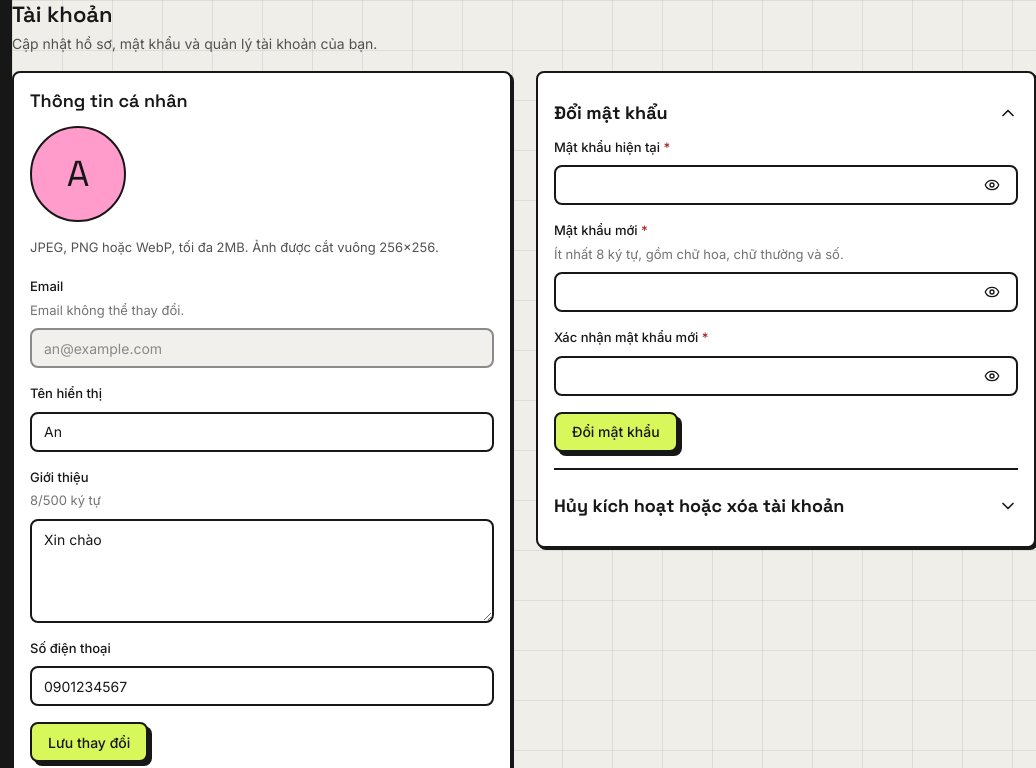
Test: EditProfileTab form › shows the backend message when saving fails
The image size is (1036, 768).
Click the button "Lưu thay đổi". click: [89, 742]
box: [30,722,148,762]
(page scrolled)
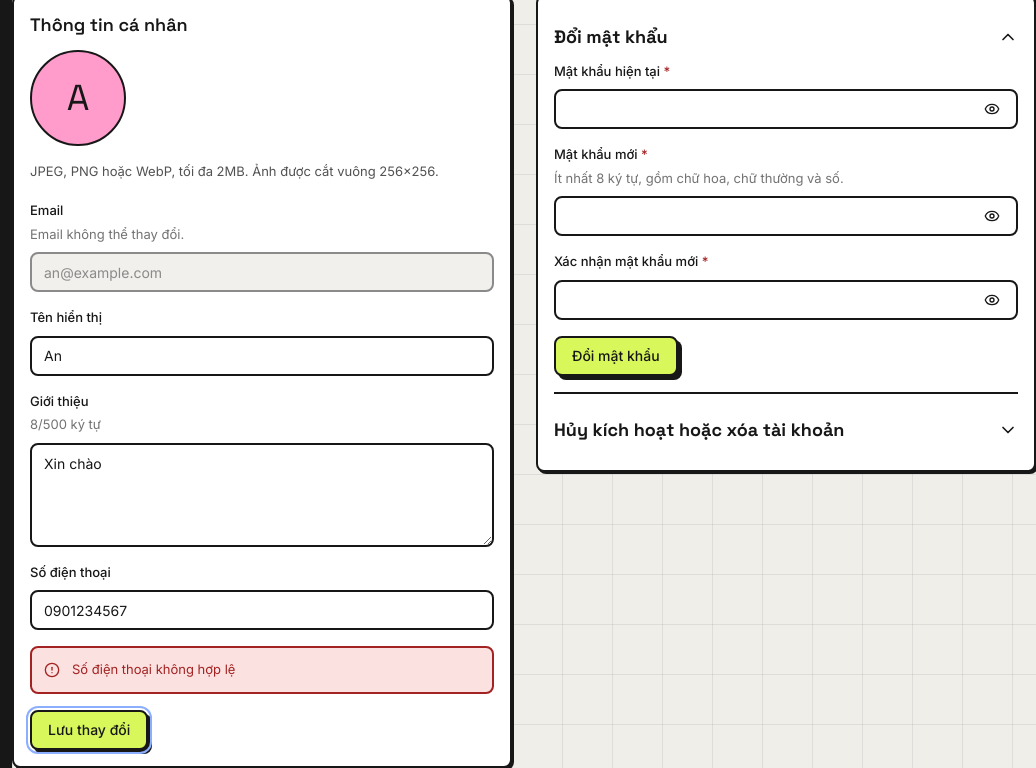
Check: the message reads "Số điện thoại không hợp lệ", box [72,661,235,677]
